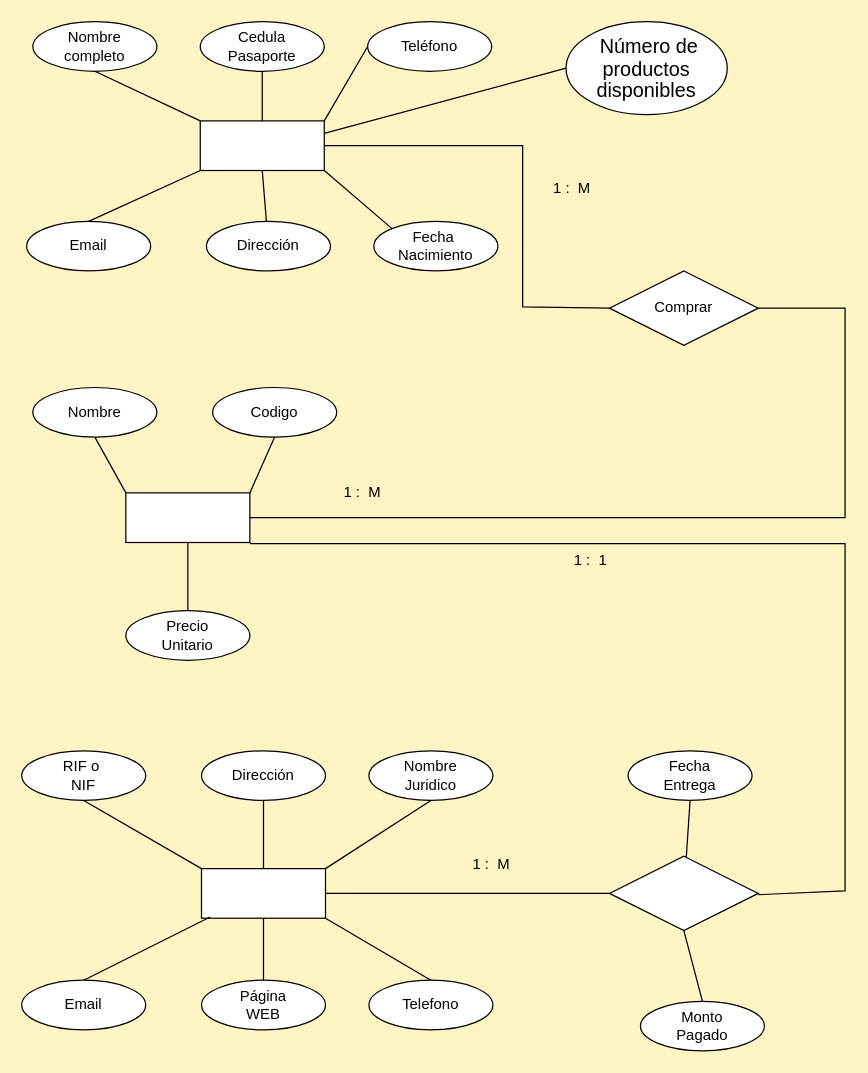
Some shapes in this 868 by 1073 pixel diagram are drawn without their labels. The centre of each missing label's shape, as x and y in pixels:
"Clientes" goes at (261,145).
"Productos" goes at (187,517).
"Provedoores" goes at (263,892).
"Suministra" goes at (683,893).
